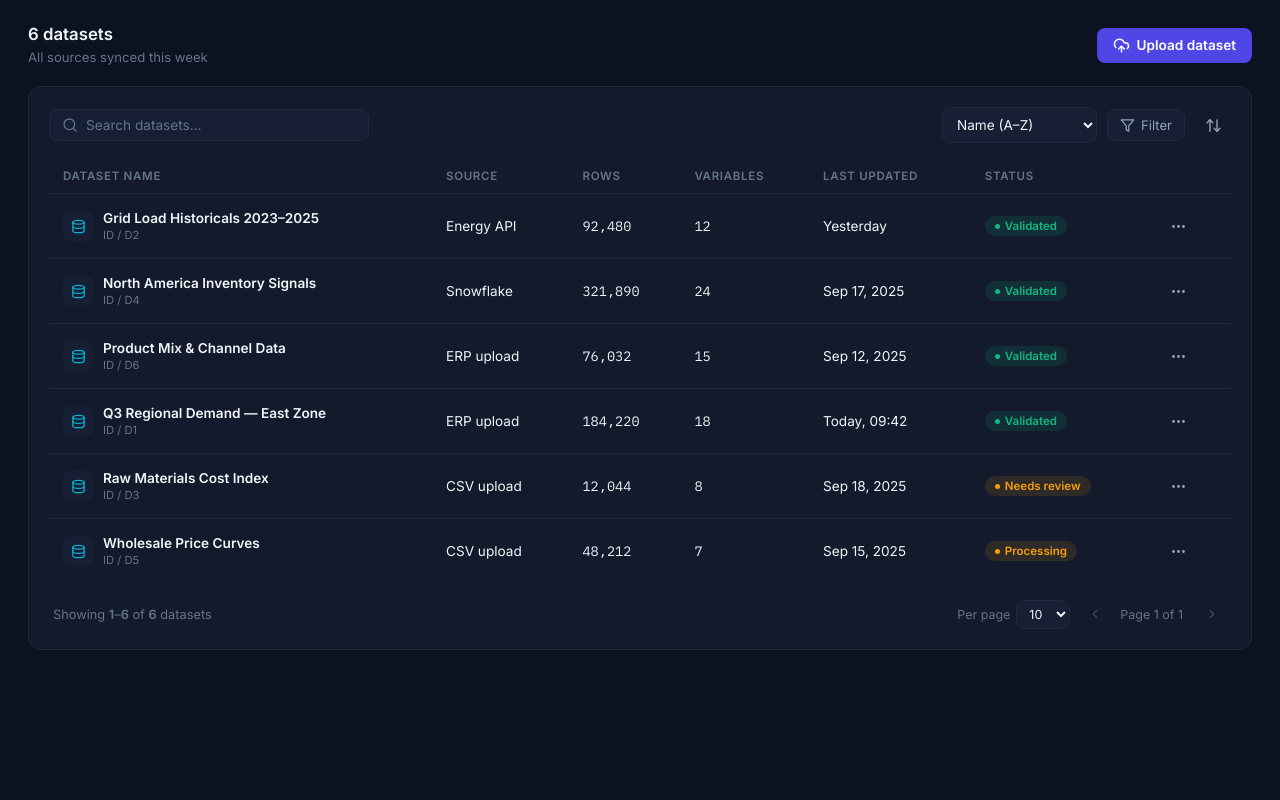
it: DatasetsPage › applies a status filter and reflects the active filter count
What coordinates should you click on to do the following:
click the button "Filter"
I would click on:
 (1146, 125)
Its box is [1107, 109, 1185, 141].
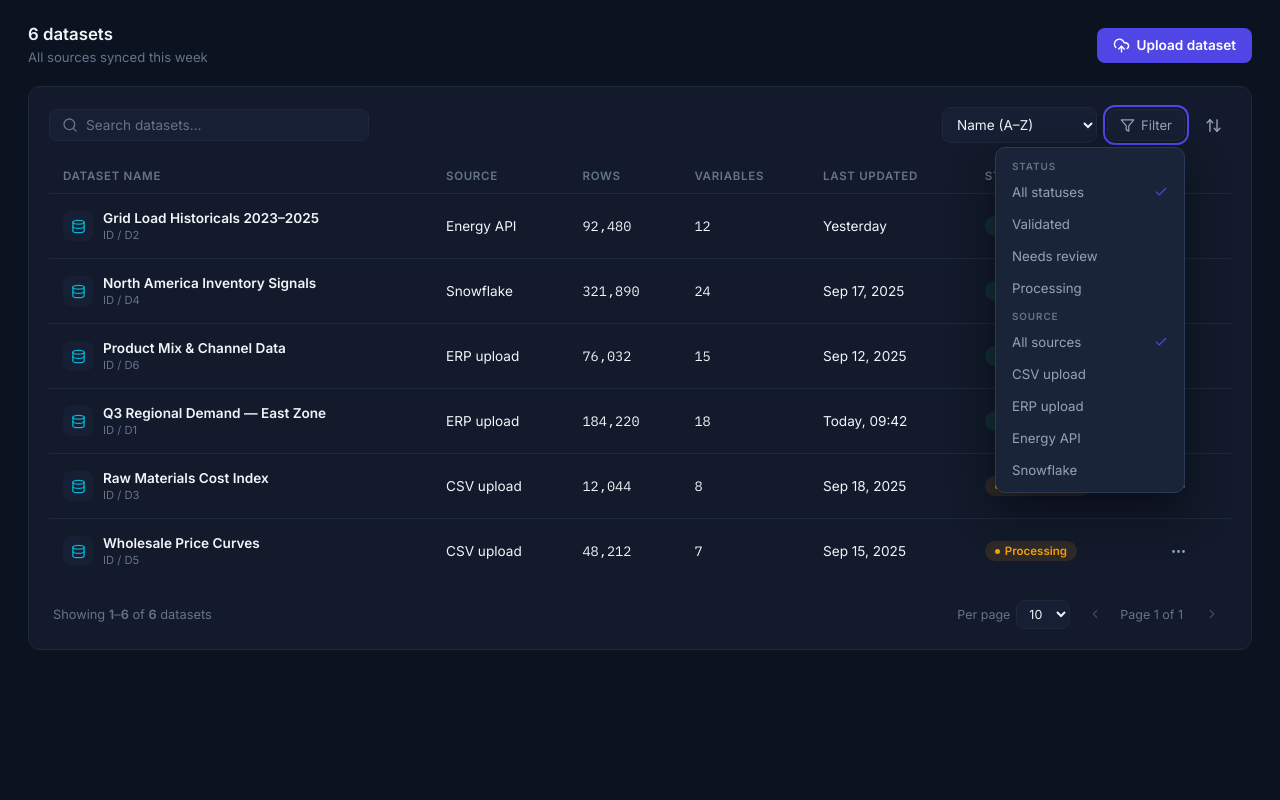
What coordinates should you click on to do the following:
click the menu item "Validated"
I would click on:
 (1090, 224)
Its box is [1002, 208, 1178, 240].
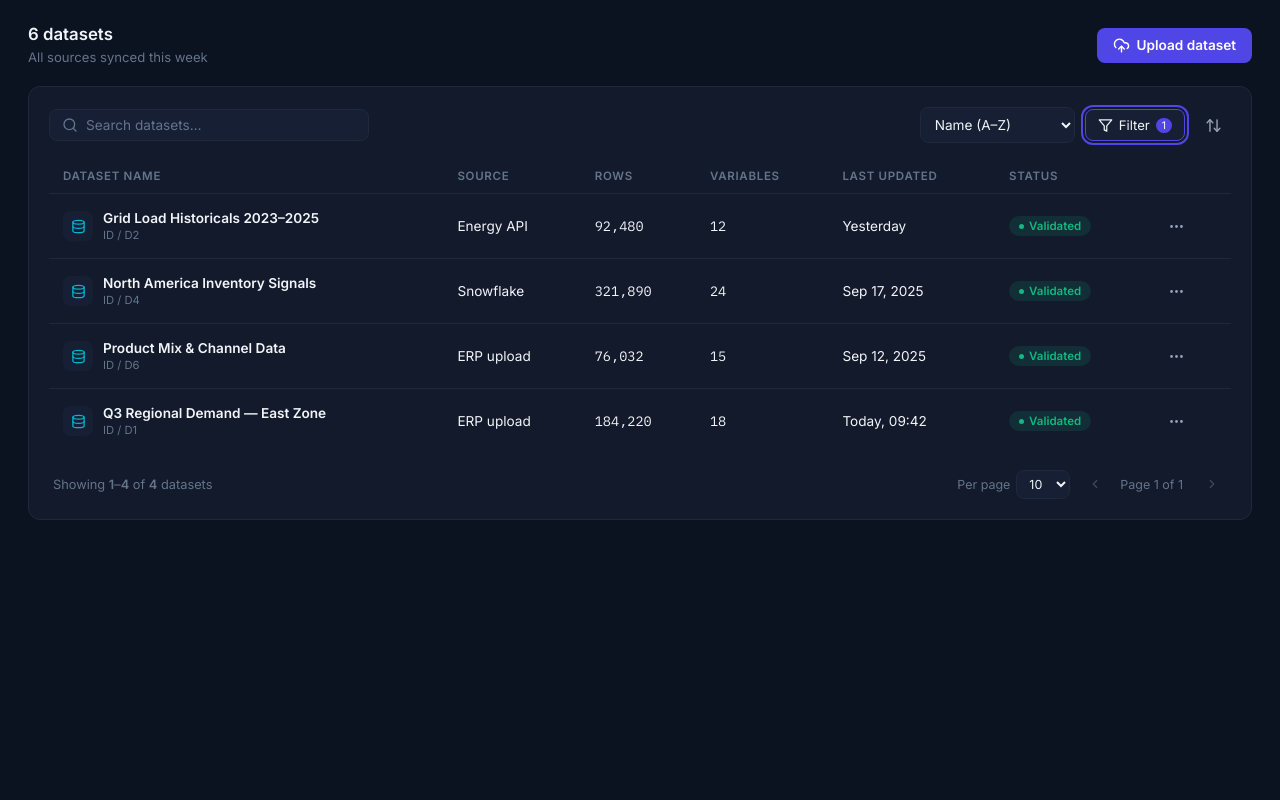
Expected: the text with class "filter-count" reads "1", [1162, 118, 1166, 132]
// The filter menu now offers a clear-all entry that restores the full list.
What coordinates should you click on to do the following:
click the button "Filter 1"
I would click on:
 (1135, 125)
Its box is [1085, 109, 1185, 141].
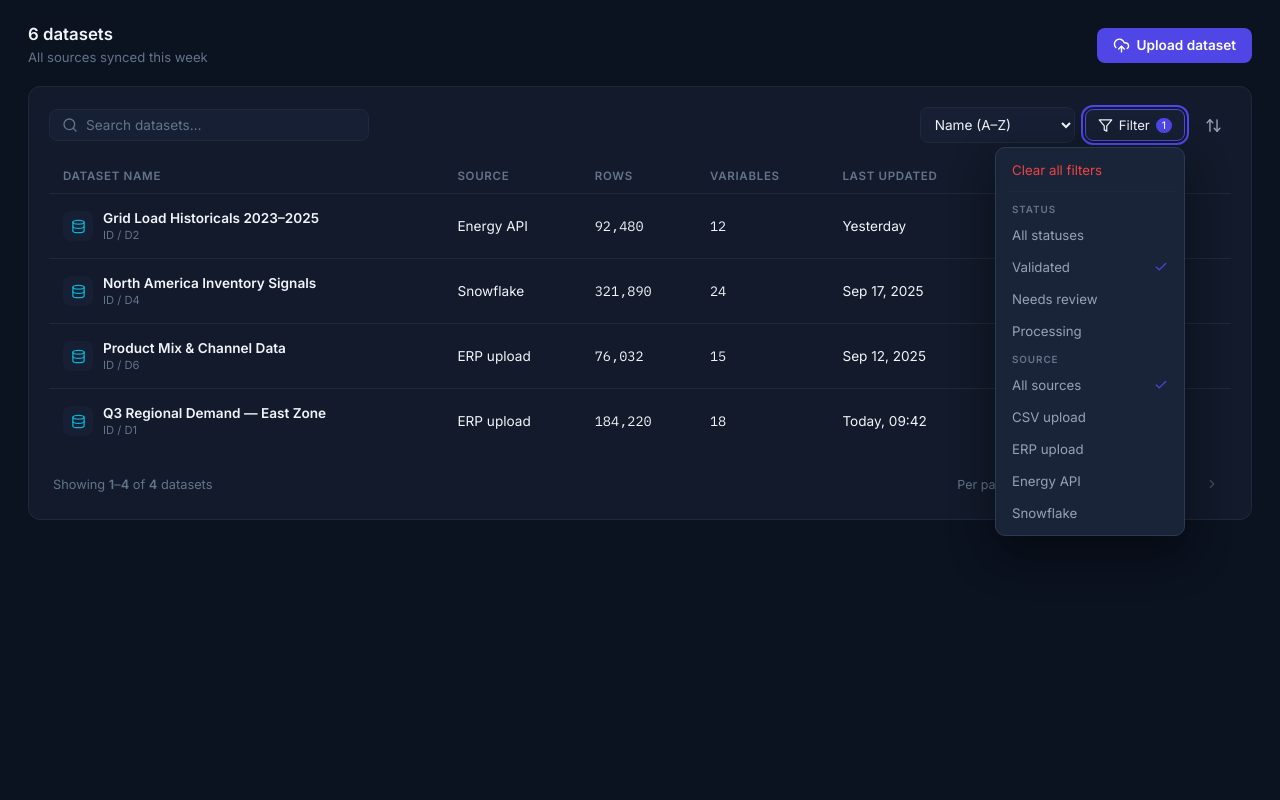
Expected: the menu item "Clear all filters" is shown
What coordinates should you click on to do the following:
click the menu item "Clear all filters"
I would click on:
 (1090, 170)
Its box is [1002, 154, 1178, 186].
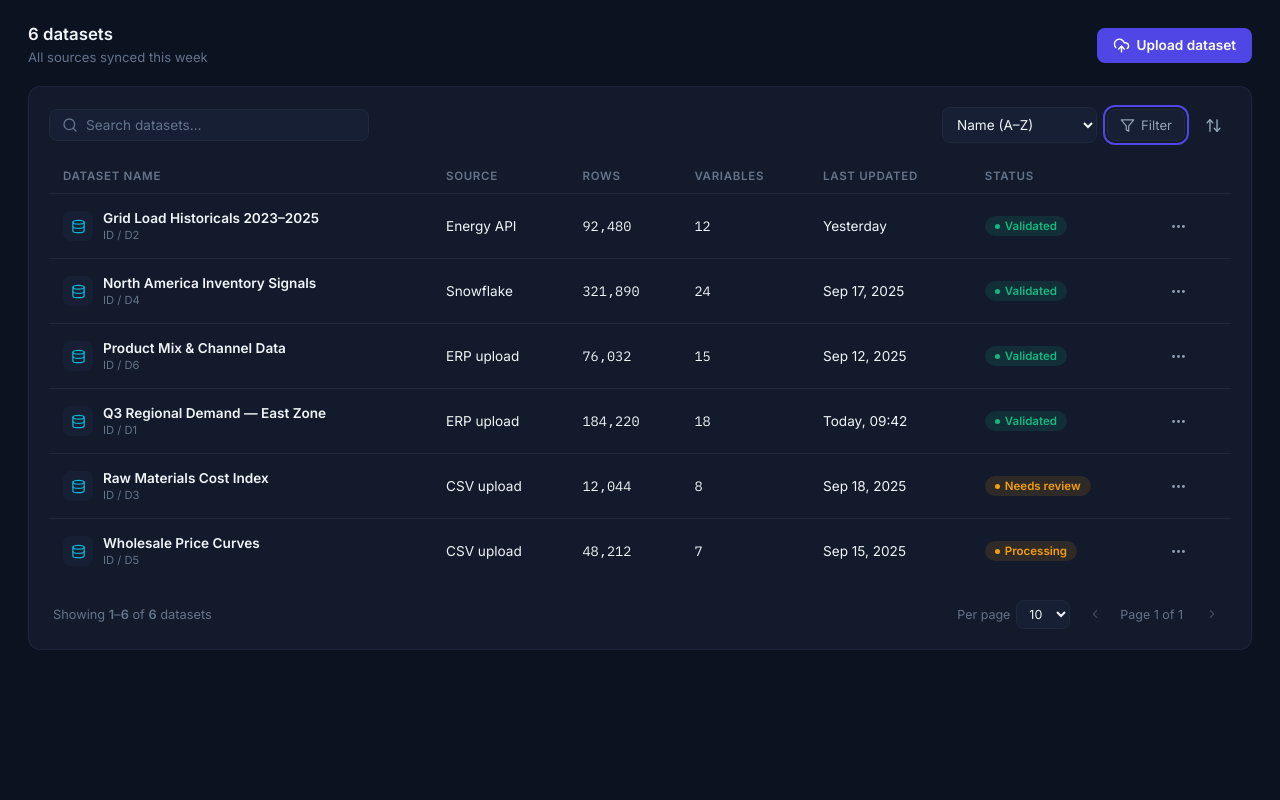
Expected: the text with class "filter-count" is gone
